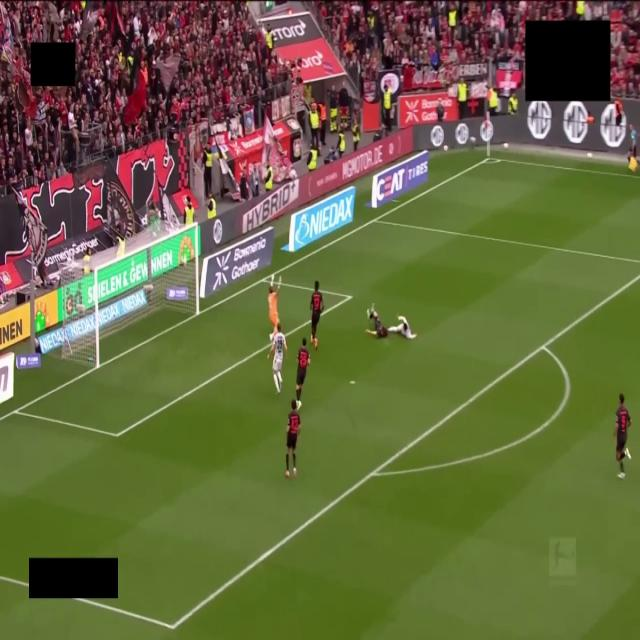player: (268, 323, 287, 393), (615, 393, 630, 479), (286, 400, 300, 478), (296, 338, 310, 409), (310, 280, 323, 349), (268, 278, 280, 340), (366, 305, 388, 337), (388, 316, 416, 339), (628, 125, 637, 161)
